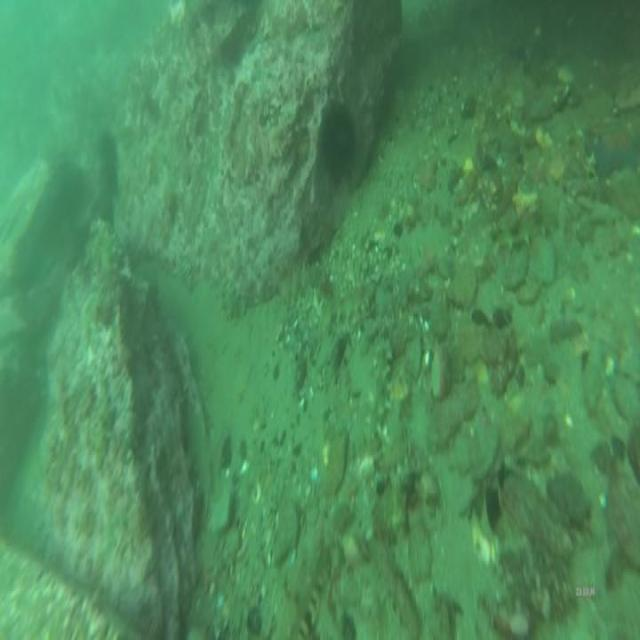holothurian: (276, 531, 327, 638), (376, 535, 422, 640), (362, 340, 390, 434)
starfish: (591, 112, 640, 184)
